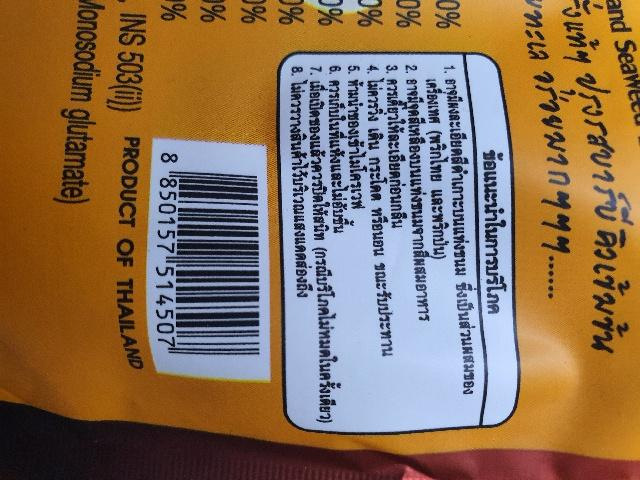Barcode: (151, 140, 267, 364)
